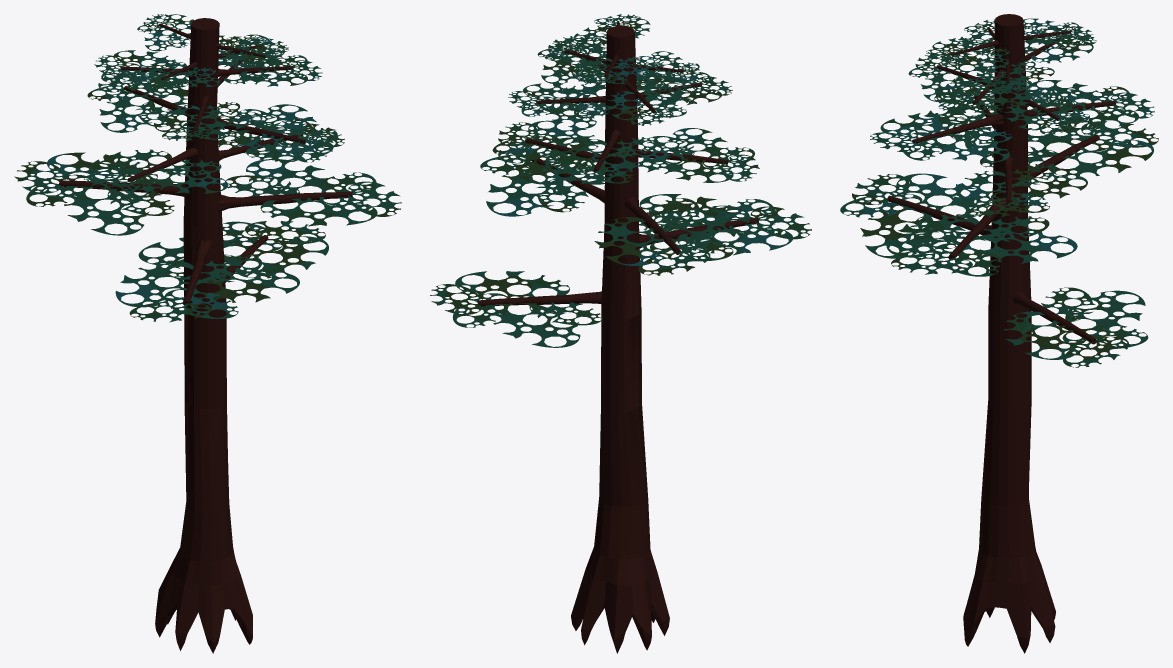
Rendered from redwood.glb.
The picture shows the model from 3 angles, left to right: view 1: azimuth 30°, elevation 25°; view 2: azimuth 150°, elevation 25°; view 3: azimuth 270°, elevation 25°; orthographic projection.
Parts seen in each view (by area): view 1: trunk, branch.010, branch.011, branch.009, branch.008, branch.012, branch.013, branch.014, branch.004, branch.006, branch.015, branch.005 (+4 smaller); view 2: trunk, branch.008, branch.009, branch.011, branch.010, branch.014, branch.012, branch.015, branch.007, branch.006, branch.004, branch.005 (+5 smaller); view 3: trunk, branch.010, branch.008, branch.011, branch.009, branch.013, branch.015, branch.014, branch.005, branch.007, branch.004, branch.002 (+5 smaller).
Part boxes in pixels (x1,y1,x2,y2): trunk: (155,18,252,653); branch.010: (218,159,401,226); branch.011: (115,240,299,322); branch.009: (14,152,186,235); branch.008: (138,221,328,282); branch.012: (84,147,228,197); branch.013: (212,104,337,162); branch.014: (87,71,188,132); branch.004: (154,96,262,141); branch.006: (94,50,189,99); branch.015: (217,118,344,161); branch.005: (216,49,322,86); trunk: (571,25,669,653); branch.008: (430,271,602,347); branch.009: (594,197,749,275); branch.011: (639,194,811,255); branch.010: (480,135,604,216); branch.014: (545,129,683,184); branch.012: (637,128,759,182); branch.015: (492,120,601,184); branch.007: (508,83,609,128); branch.006: (605,80,696,125); branch.004: (636,70,732,104); branch.005: (537,36,606,83); trunk: (963,14,1055,653); branch.010: (886,197,1077,276); branch.008: (1004,287,1148,367); branch.011: (840,173,991,258); branch.009: (965,119,1158,181); branch.013: (870,113,1011,162); branch.015: (953,156,1087,217); branch.014: (1027,80,1154,128); branch.005: (936,69,1048,114); branch.007: (1005,87,1089,134); branch.004: (908,52,994,102); branch.002: (926,38,1009,67).
Bounding box in the file's own units: 10.18 × 20 × 9.39.
1 material, 1 textured.
